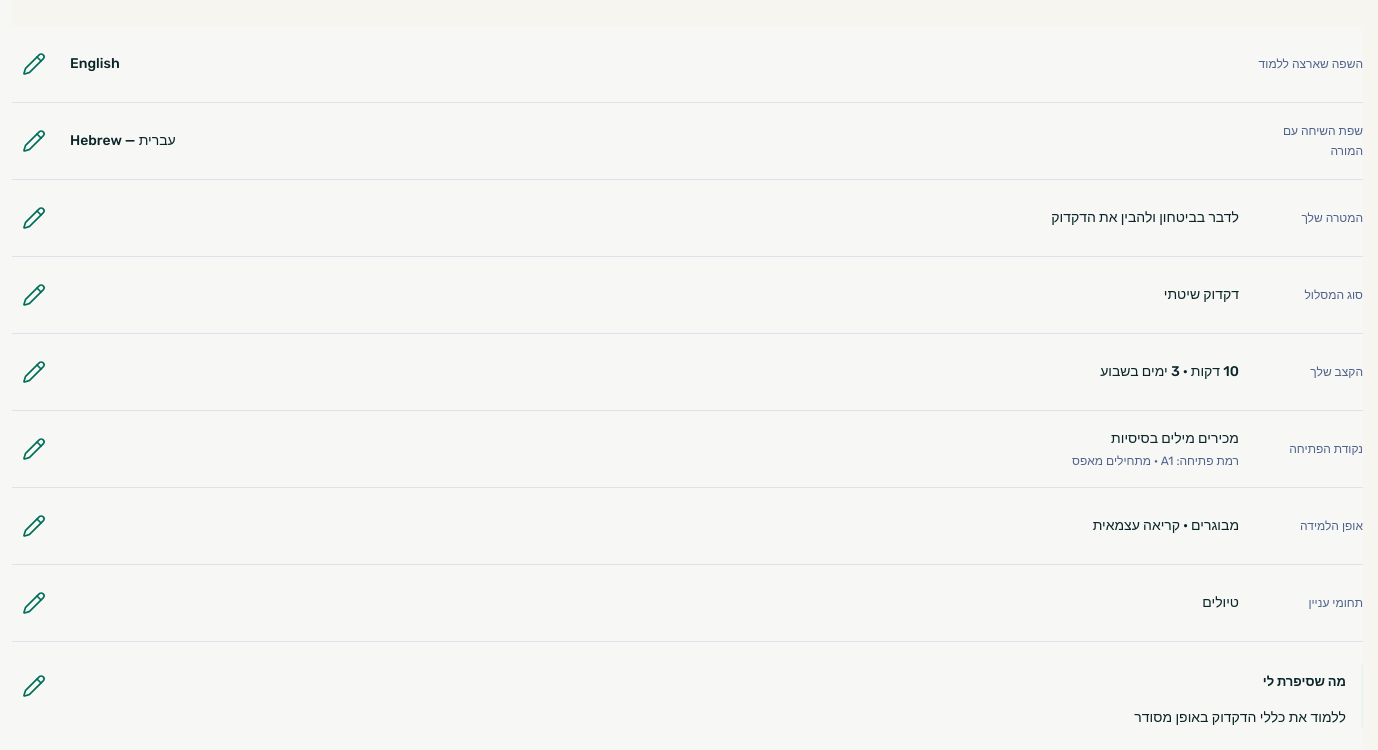
Test: inline interview preference review › saves שפת השיחה עם המורה without replacing other preferences
Click the button named "עריכת שפת השיחה עם המורה" at (34, 141), box [12,119,56,163]
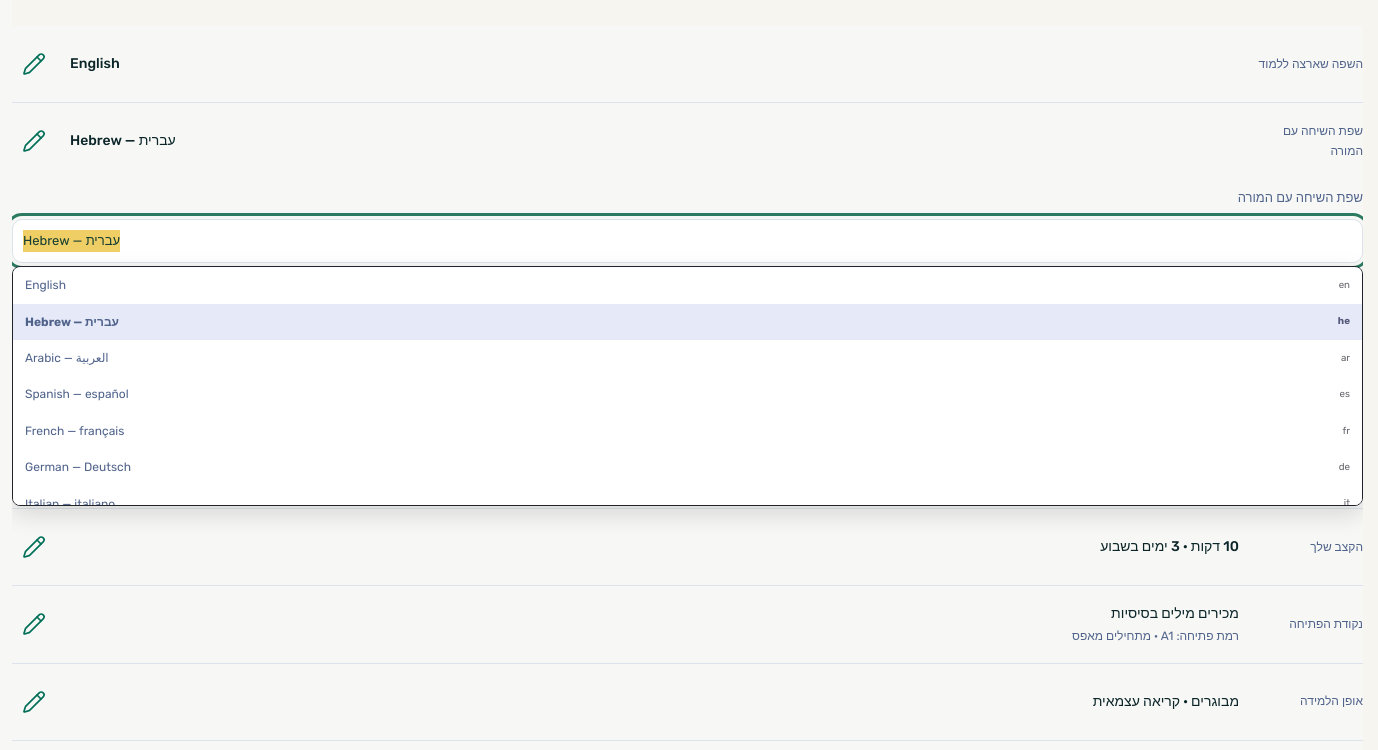
Replace the text in the dropdown with "Deutsch" at (688, 241), box [12,219,1363,263]
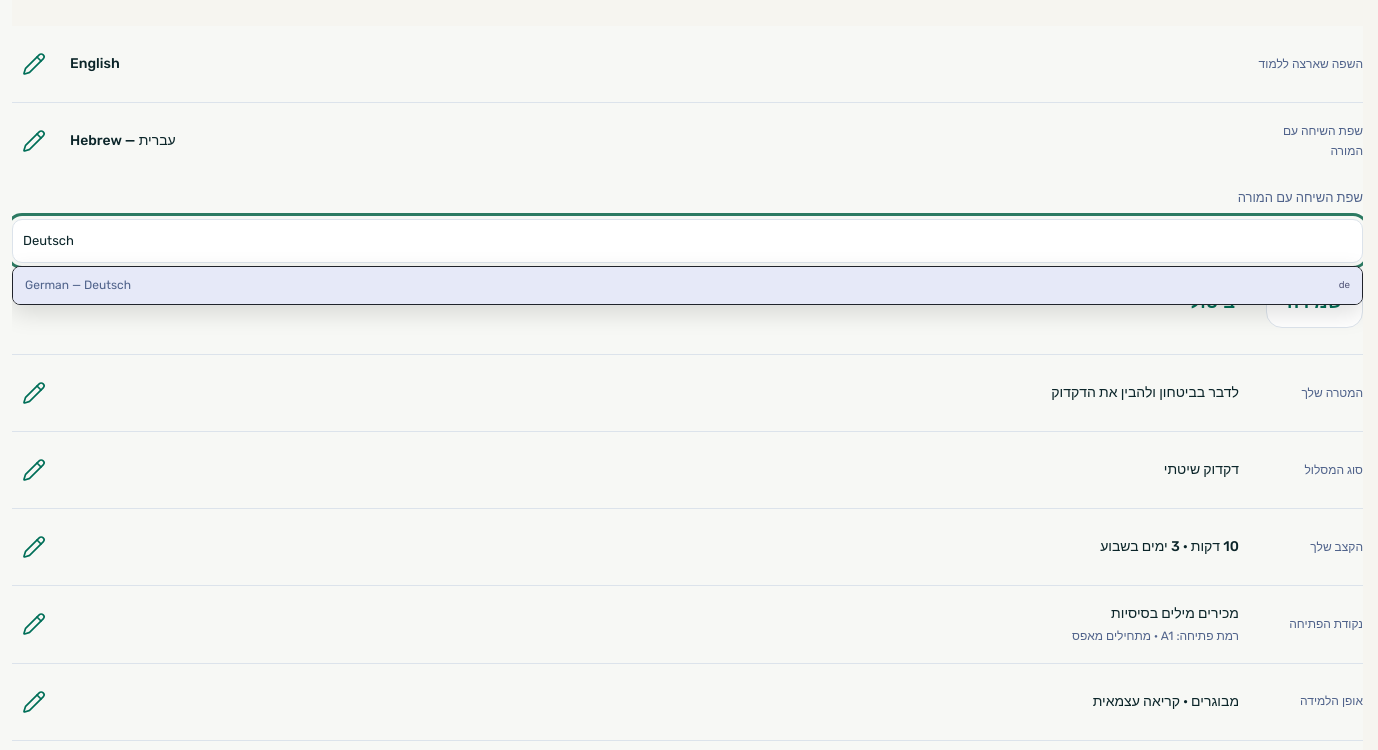
Press Enter
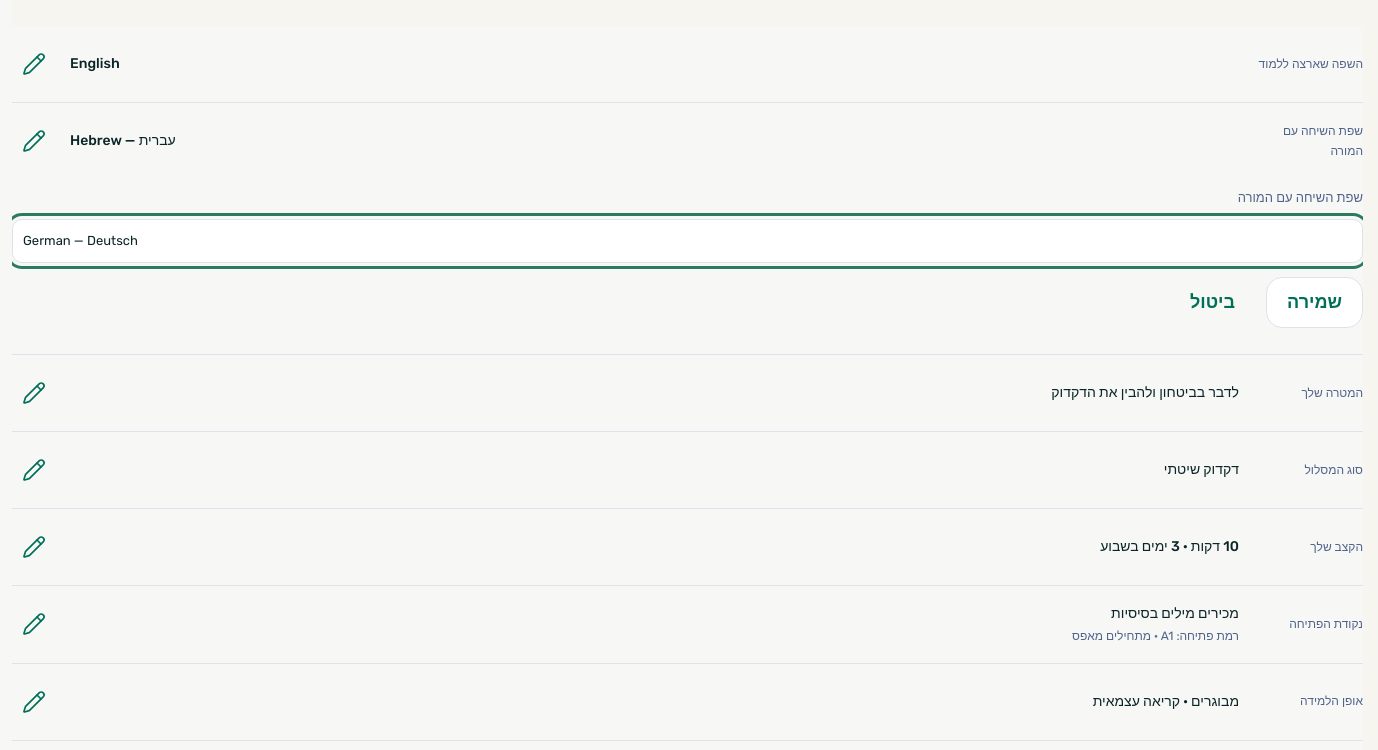
Click the button "שמירה" at (1314, 303), box [1266,277,1363,328]
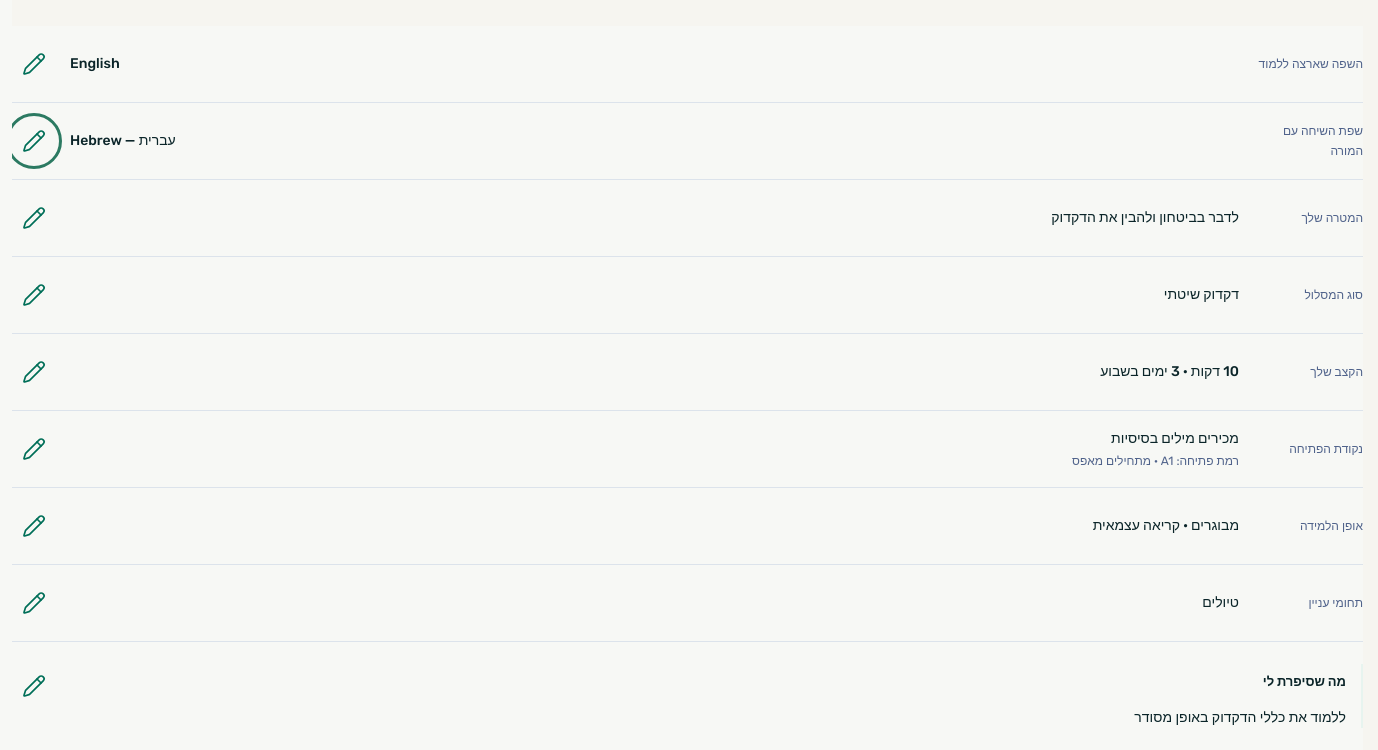
Expected: the form is gone
